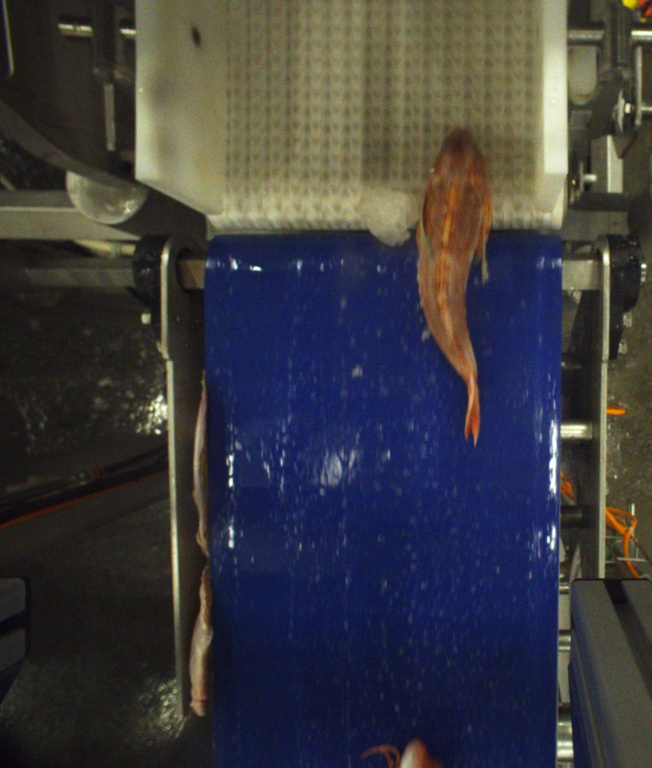GUU: (418, 125, 489, 441)
